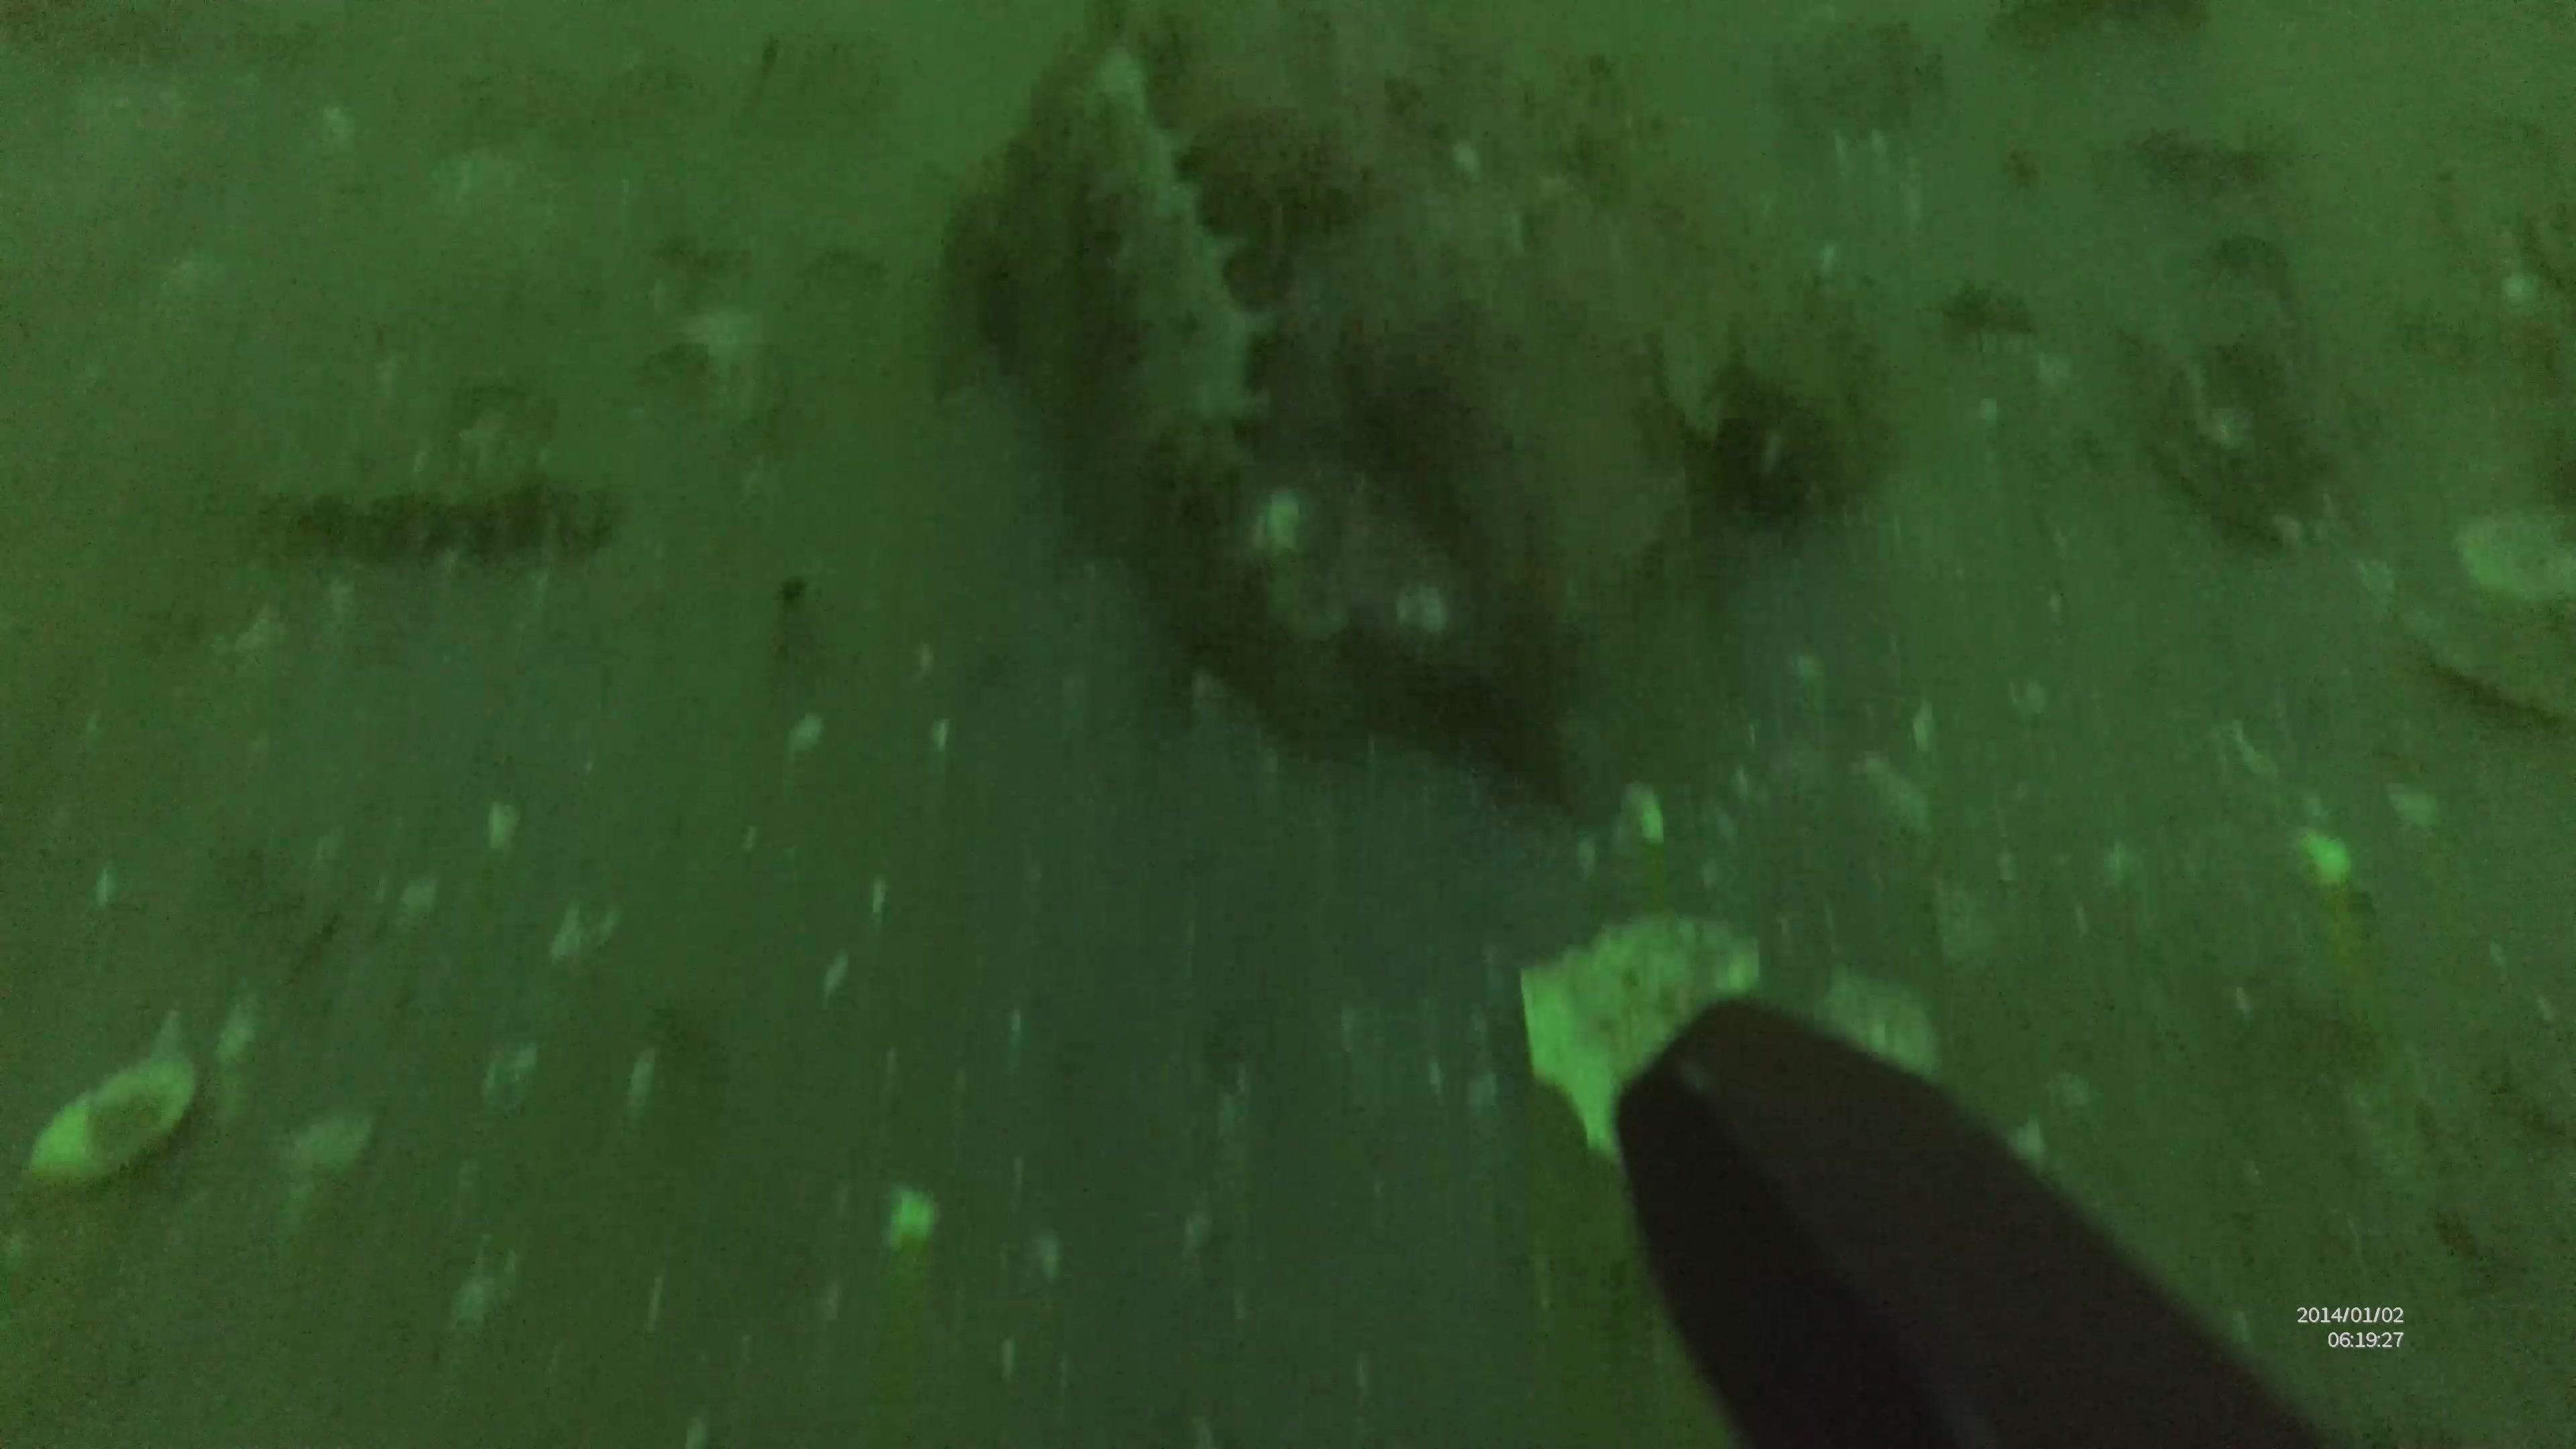holothurian: (1058, 44, 1272, 478), (260, 467, 609, 561)
